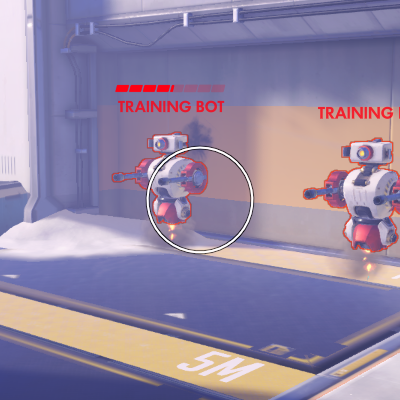hpbar: (115, 84, 225, 92)
